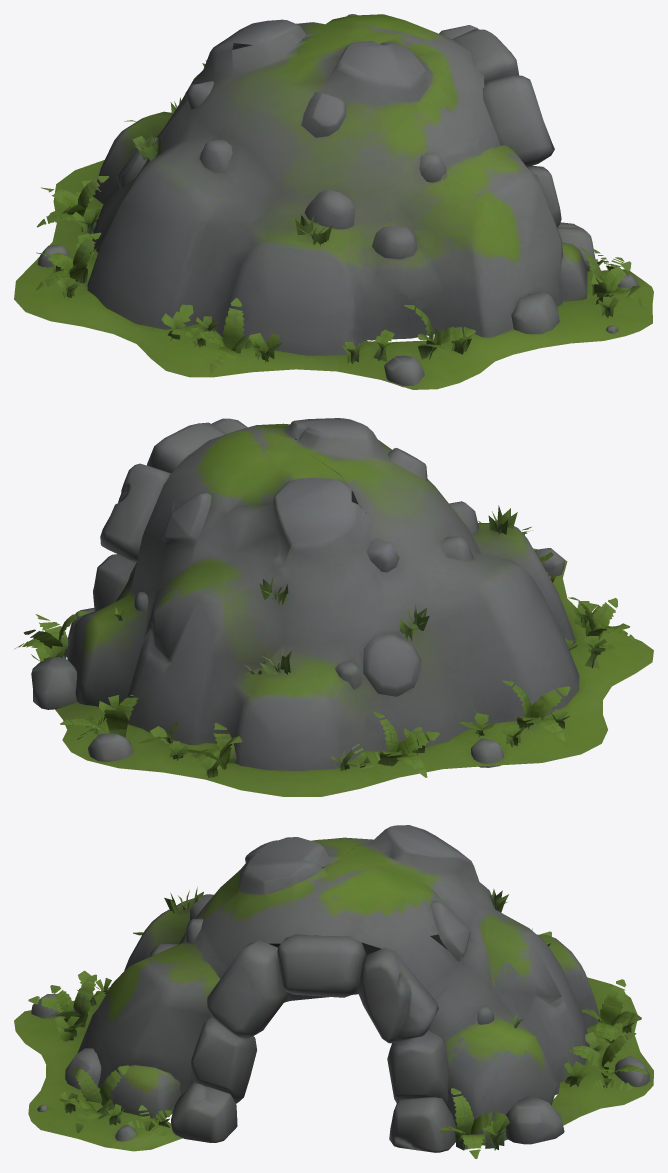
File: cave_mouth_b.glb
The picture shows the model from 3 angles, top to bottom: view 1: azimuth 30°, elevation 25°; view 2: azimuth 150°, elevation 25°; view 3: azimuth 270°, elevation 25°; orthographic projection. The views are drawn at different scales.
Parts seen in each view (by area): view 1: tripo_node_b7c121ff-768d-4e3b-b4ed-255bf5ce0bbb; view 2: tripo_node_b7c121ff-768d-4e3b-b4ed-255bf5ce0bbb; view 3: tripo_node_b7c121ff-768d-4e3b-b4ed-255bf5ce0bbb.
Boxes of the visible parts, x1,y1,x2,y2 form: tripo_node_b7c121ff-768d-4e3b-b4ed-255bf5ce0bbb: (14, 14, 653, 389); tripo_node_b7c121ff-768d-4e3b-b4ed-255bf5ce0bbb: (14, 418, 653, 796); tripo_node_b7c121ff-768d-4e3b-b4ed-255bf5ce0bbb: (14, 825, 653, 1158).
Size of the model in its own units: 0.9331 by 0.3803 by 0.9995.
1 material, 1 textured.
